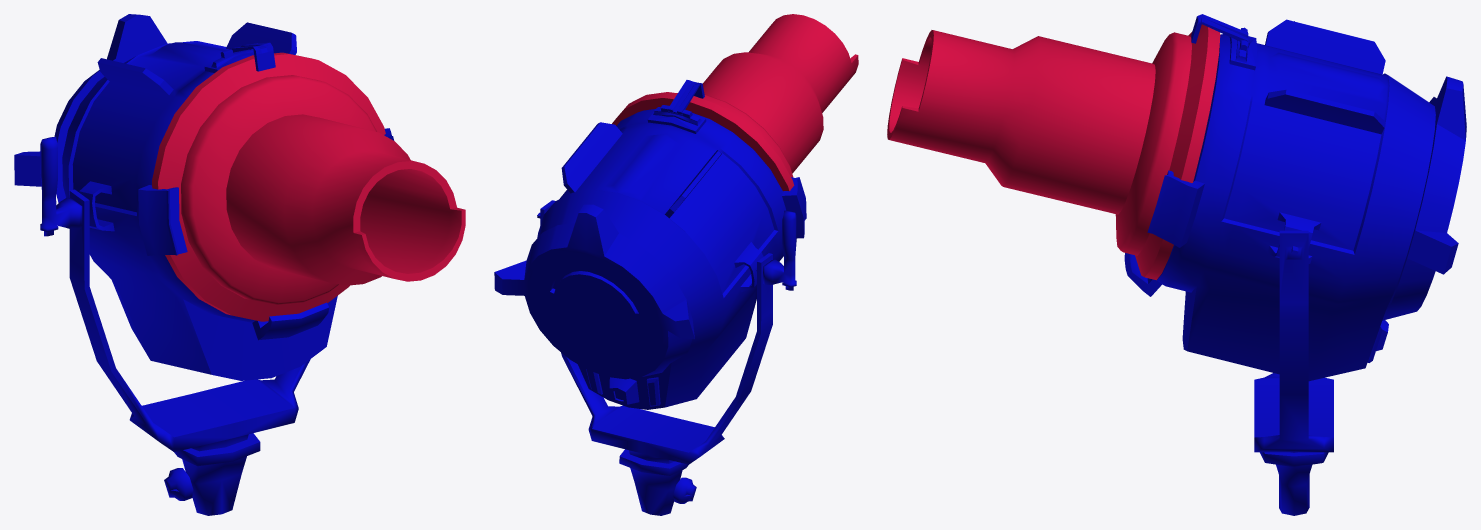
File: 650 Watt Tungsten Fresnel with Snout Animatable.fbx
3 renders of one model, left to right at view 1: azimuth 30°, elevation 25°; view 2: azimuth 150°, elevation 25°; view 3: azimuth 270°, elevation 25°, orthographic. The views are drawn at different scales.
Visible parts, largest first — view 1: Cylinder.001, Cylinder; view 2: Cylinder.001, Cylinder; view 3: Cylinder.001, Cylinder.
Boxes of the visible parts, box(x1,y1,x2,y2) form: Cylinder.001: box(14, 14, 465, 380); Cylinder: box(40, 136, 310, 515); Cylinder.001: box(494, 14, 858, 409); Cylinder: box(540, 200, 796, 515); Cylinder.001: box(887, 14, 1466, 381); Cylinder: box(1254, 21, 1333, 515).
Bounding box in the file's own units: 49.89 × 74.11 × 79.45.
